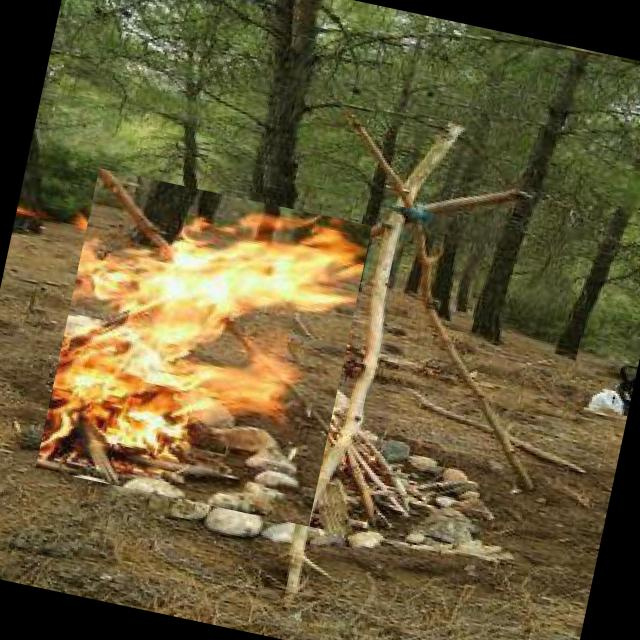fire: (35, 168, 372, 526)
